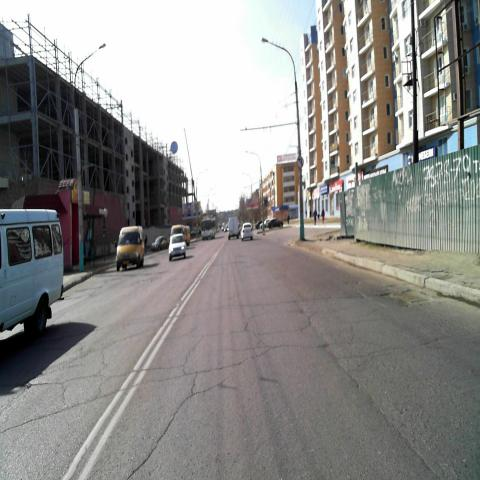3_18_2: (297, 154, 304, 170)
